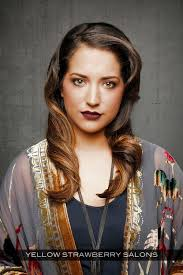indian_female: (58, 33, 141, 147)
